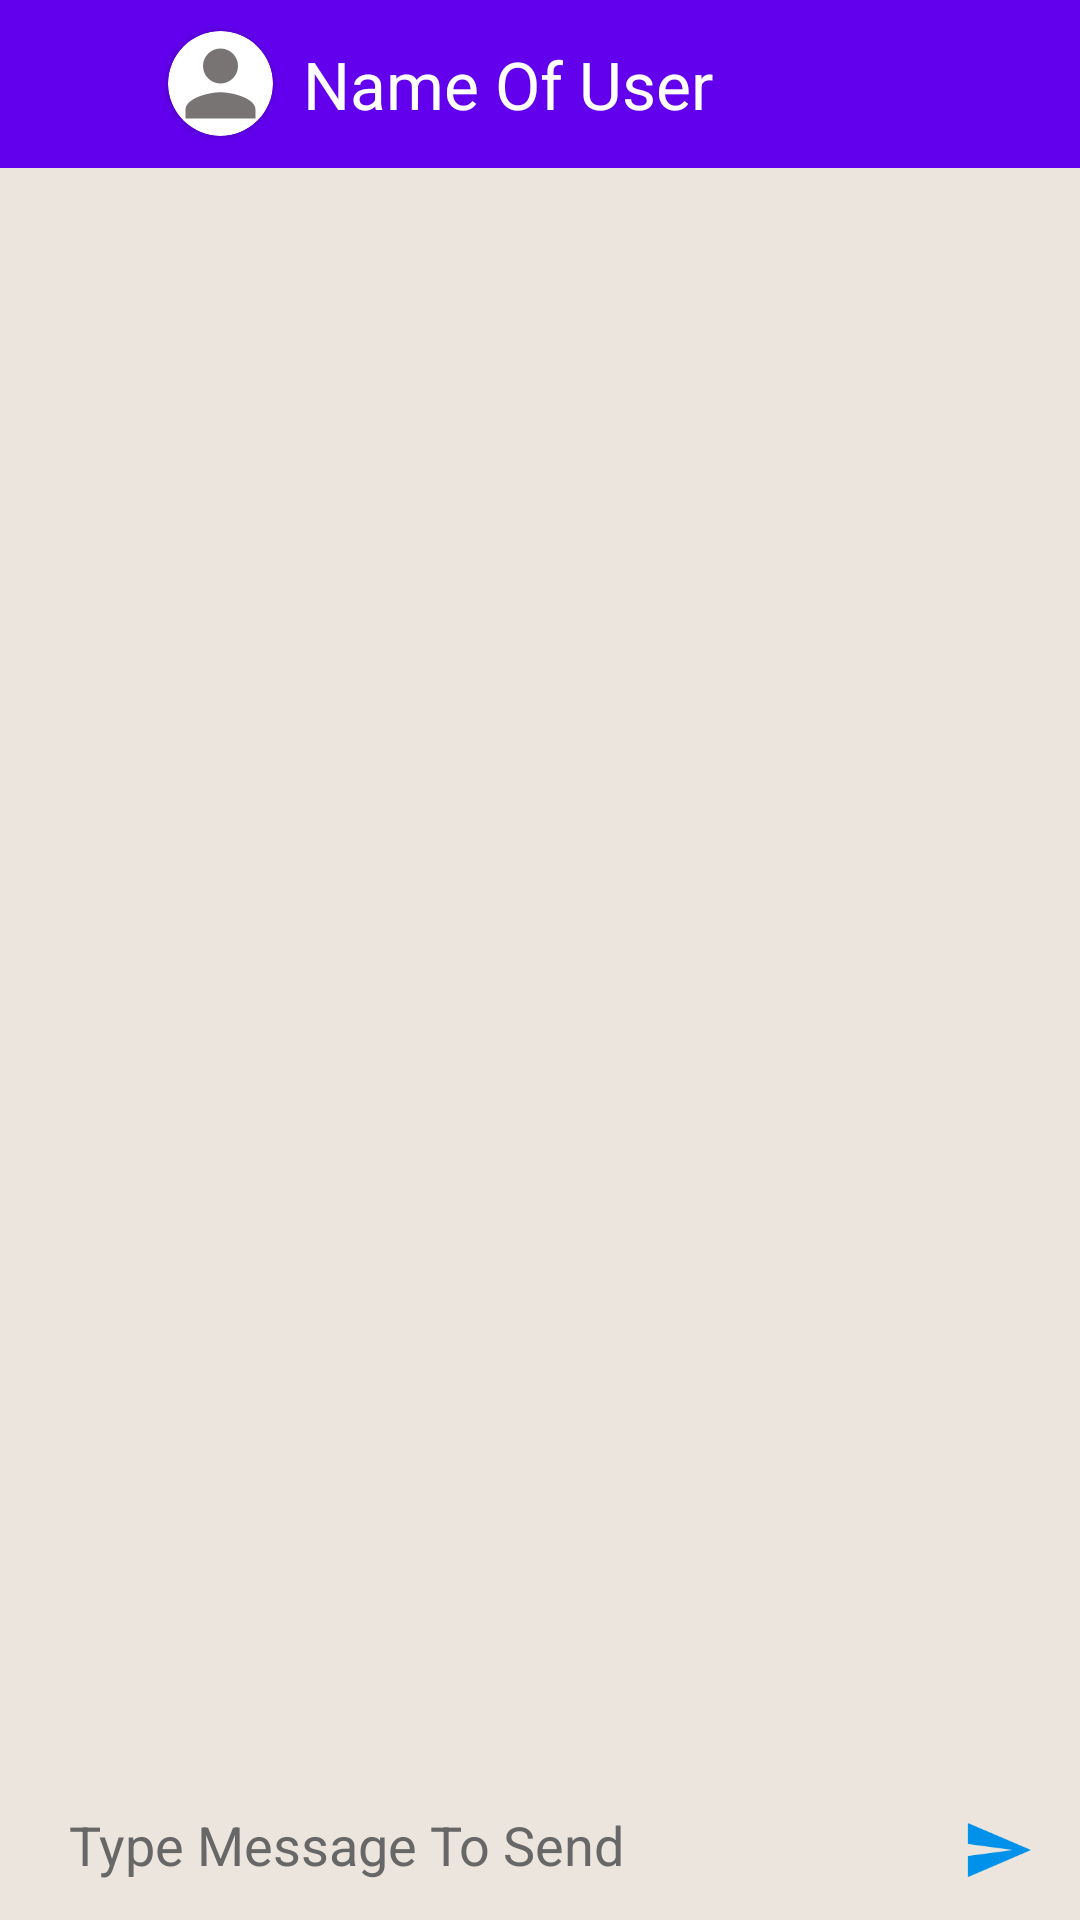

Where icons sit on this 1080×1920 app screen, as (x1, y1, x2, y2):
person: (168, 31, 273, 136)
